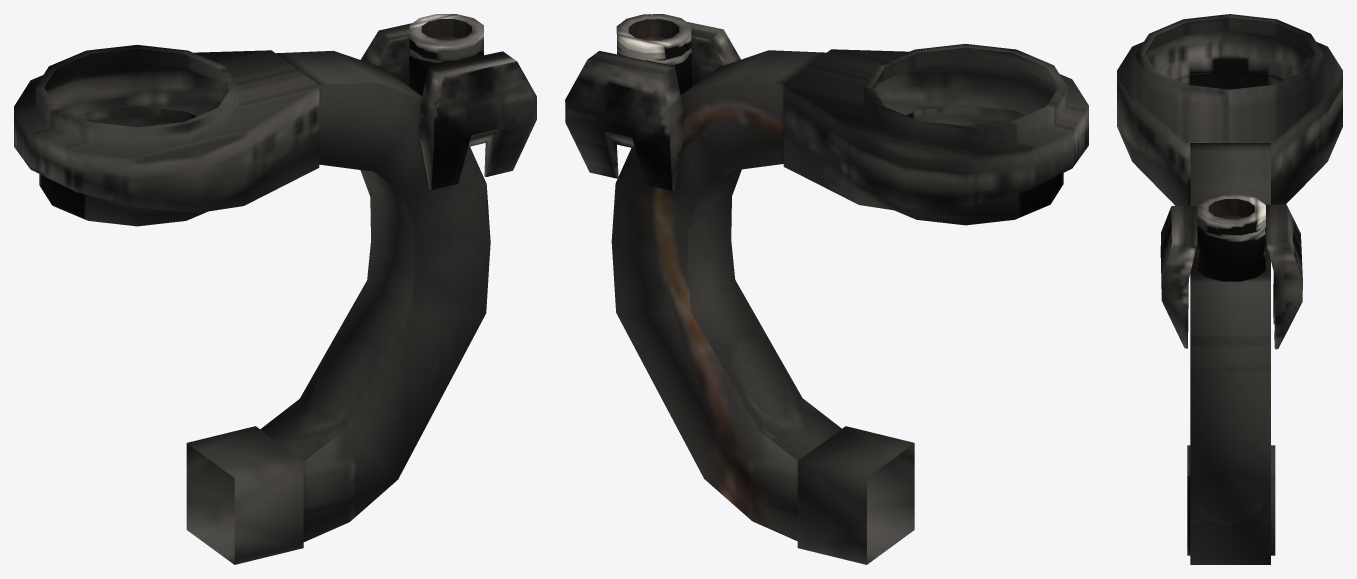
File: suspension_steer_B_R.dae
3 renders of one model, left to right at view 1: azimuth 30°, elevation 25°; view 2: azimuth 150°, elevation 25°; view 3: azimuth 270°, elevation 25°, orthographic. The views are drawn at different scales.
Parts seen in each view (by area): view 1: suspension_steer_B_R; view 2: suspension_steer_B_R; view 3: suspension_steer_B_R.
Part boxes in pixels (left/top/right/bottom): suspension_steer_B_R: left=14, top=14, right=536, bottom=564; suspension_steer_B_R: left=565, top=14, right=1088, bottom=564; suspension_steer_B_R: left=1117, top=14, right=1342, bottom=564.
Bounding box in the file's own units: 0.4622 × 0.2102 × 0.4499.
2 materials, 2 textured.
